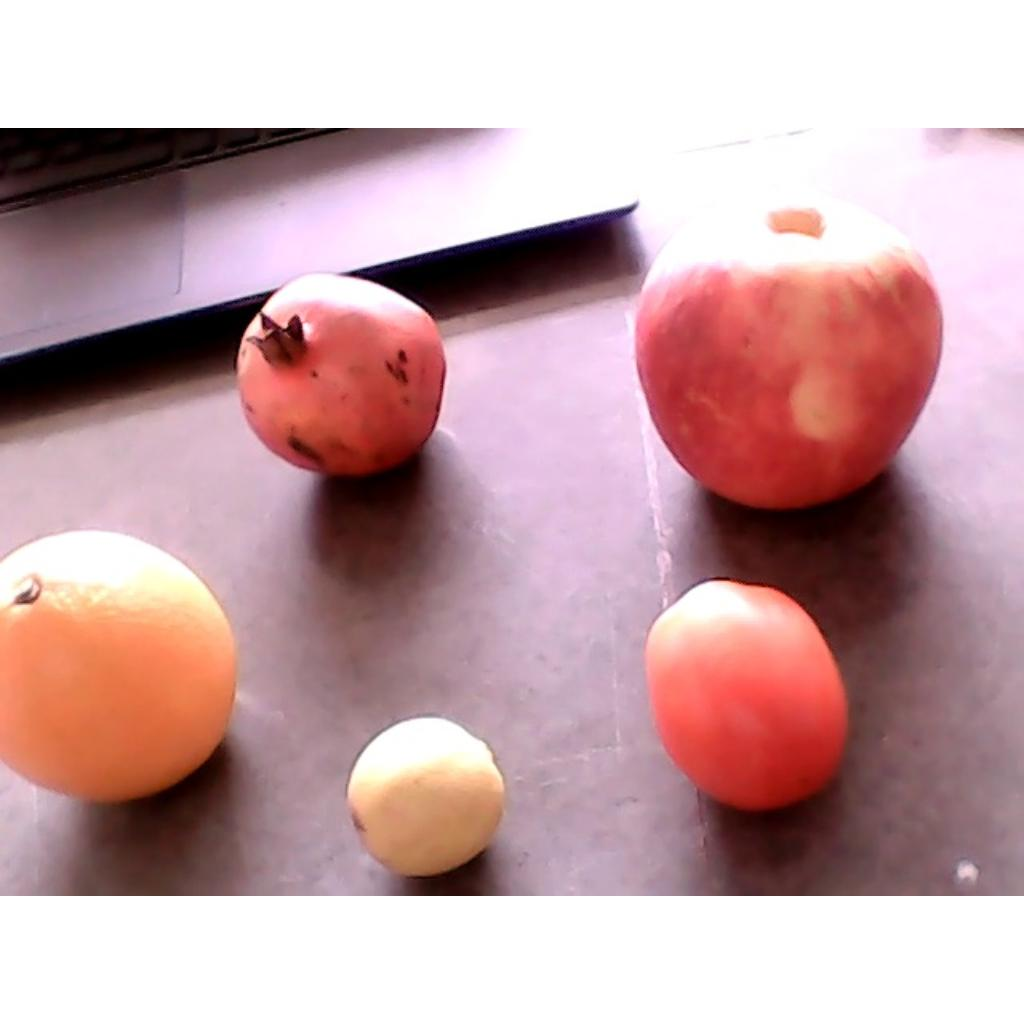apple: (634, 187, 945, 512)
lemon: (346, 715, 504, 877)
orange: (0, 528, 240, 802)
pomegranate: (236, 271, 448, 475)
tomato: (646, 579, 849, 814)
